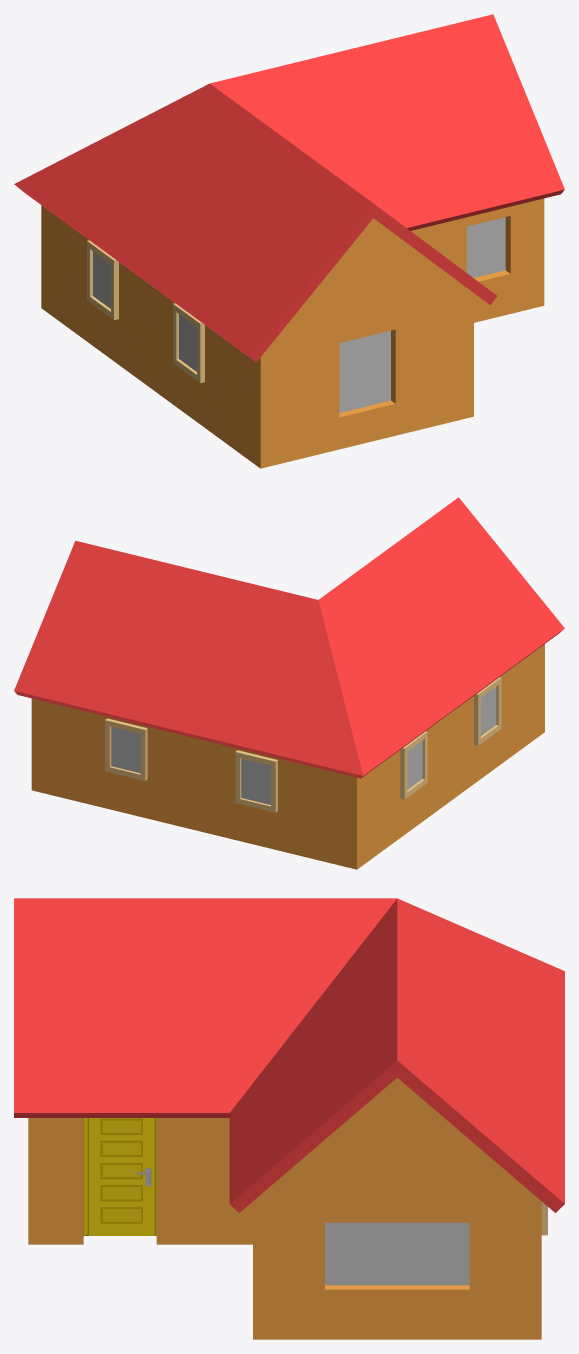
Rendered from Town_Bld_House_B.FBX.
The picture shows the model from 3 angles, top to bottom: view 1: azimuth 30°, elevation 25°; view 2: azimuth 150°, elevation 25°; view 3: azimuth 270°, elevation 25°; orthographic projection. The views are drawn at different scales.
Visible parts, largest first — view 1: Town_Bld_House_B; view 2: Town_Bld_House_B; view 3: Town_Bld_House_B.
Part boxes in pixels (x1,y1,x2,y2): Town_Bld_House_B: (14,14,564,468); Town_Bld_House_B: (14,497,564,869); Town_Bld_House_B: (14,898,564,1339).
Size of the model in its own units: 506 by 289 by 506.
